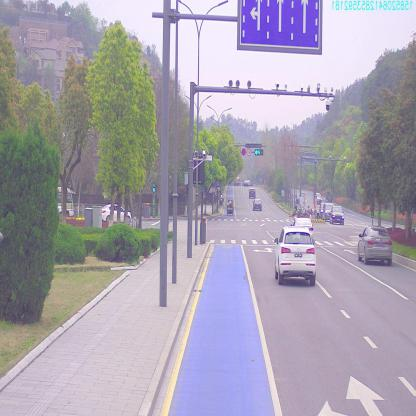traffic-light: (254, 150, 264, 154)
